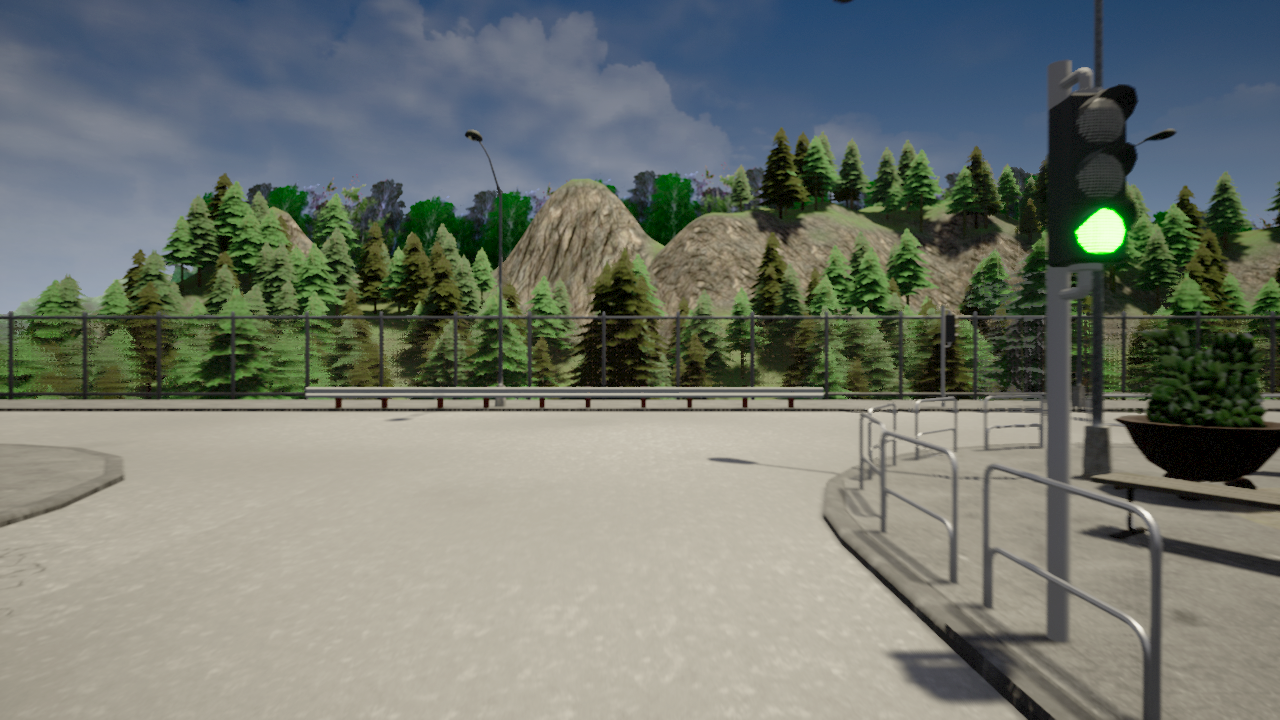green: (1056, 83, 1135, 265)
